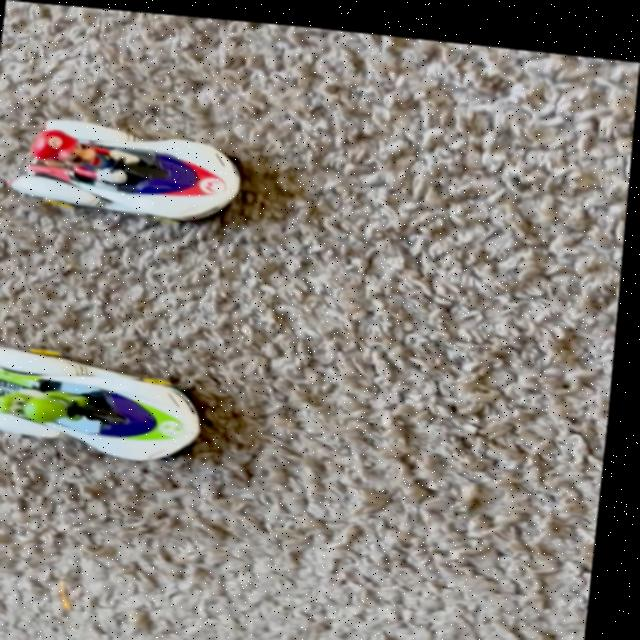mario: (0, 92, 268, 243)
yoshi: (0, 322, 235, 482)
